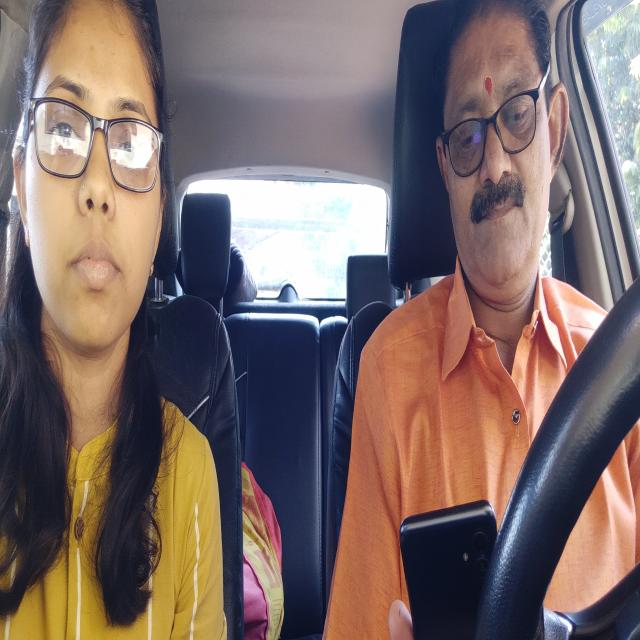mobile: (396, 502, 504, 613)
person: (14, 0, 170, 348), (428, 0, 564, 294)
